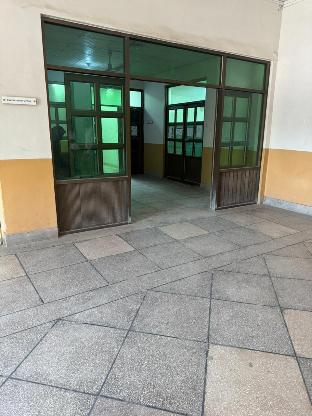door: (112, 29, 222, 229)
